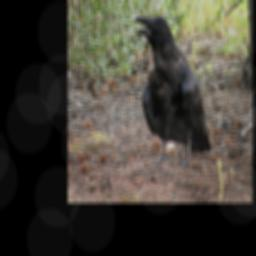Crow: (133, 14, 213, 170)
